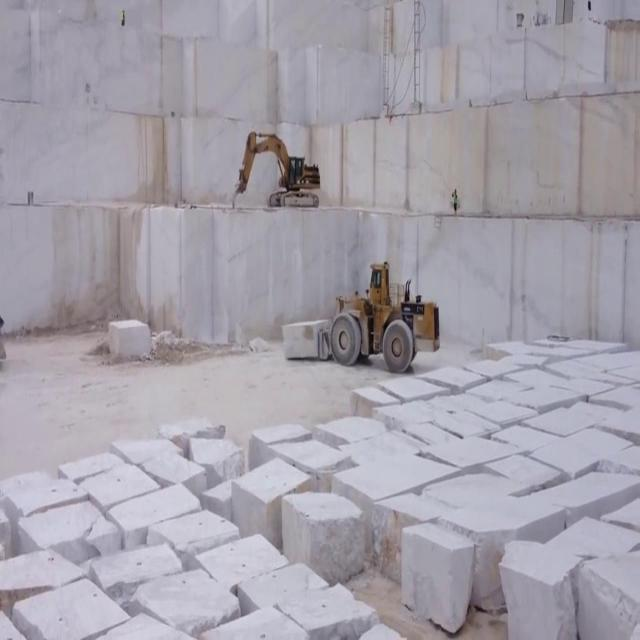Excavator: (230, 123, 322, 208)
Loader: (317, 260, 441, 377)
